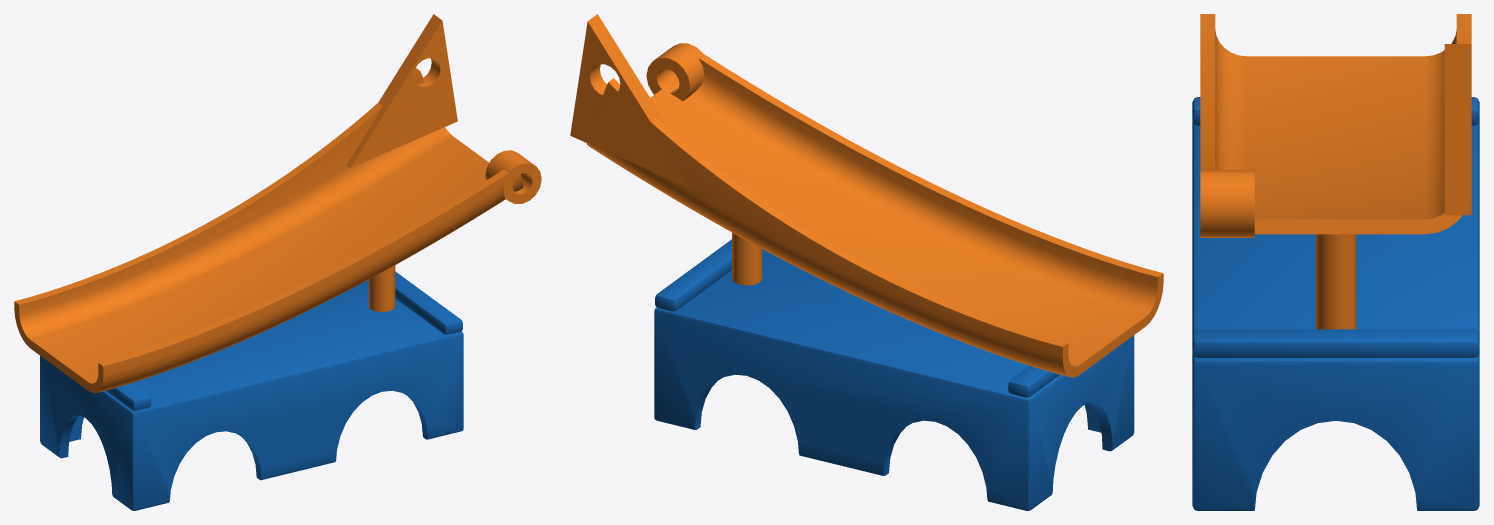
3 views of the same model, side by side, from view 1: azimuth 30°, elevation 25°; view 2: azimuth 150°, elevation 25°; view 3: azimuth 270°, elevation 25° (orthographic). The views are drawn at different scales.
Parts seen in each view (by area): view 1: M-10__5716; view 2: M-10__5716; view 3: M-10__5716.
Part boxes in pixels (x1,y1,x2,y2): M-10__5716: (14,14,541,510); M-10__5716: (570,14,1163,510); M-10__5716: (1192,14,1479,510).
Size of the model in its own units: 0.114 by 0.0835 by 0.0423.
